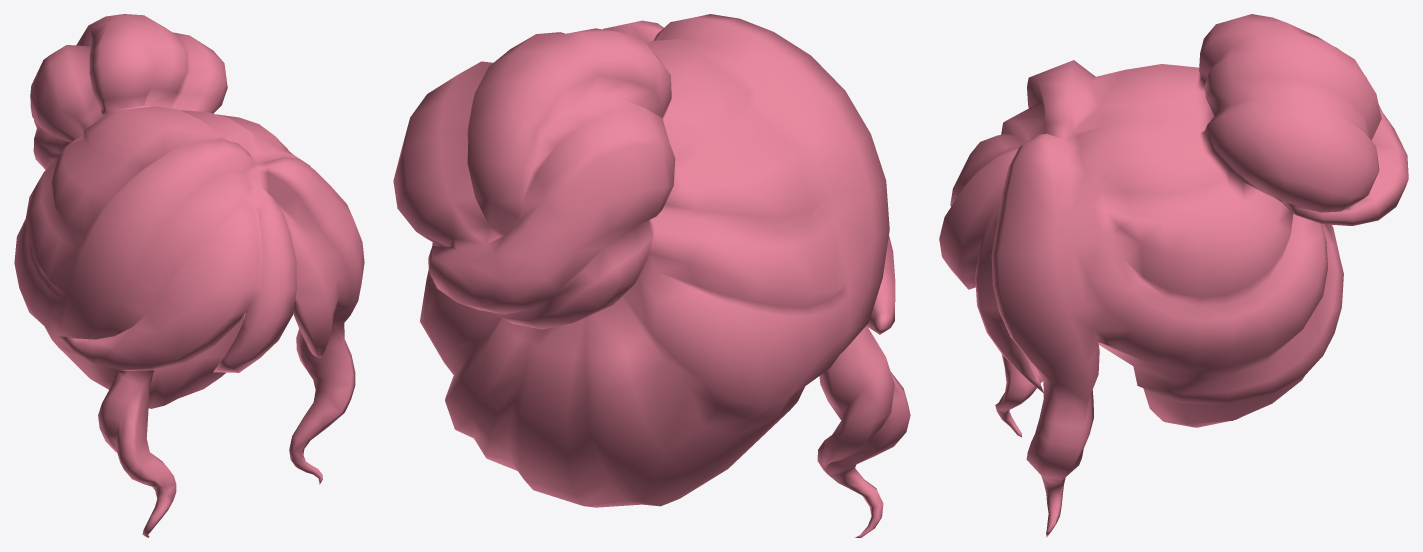
File: human_female_m001_hair.fbx
3 views of the same model, side by side, from view 1: azimuth 30°, elevation 25°; view 2: azimuth 150°, elevation 25°; view 3: azimuth 270°, elevation 25° (orthographic). The views are drawn at different scales.
Visible parts, largest first — view 1: human_female_m001_hair; view 2: human_female_m001_hair; view 3: human_female_m001_hair.
Part boxes in pixels (x1,y1,x2,y2): human_female_m001_hair: (14,14,364,537); human_female_m001_hair: (393,14,910,537); human_female_m001_hair: (939,14,1408,537).
Size of the model in its own units: 1.81 by 2.54 by 2.34.
